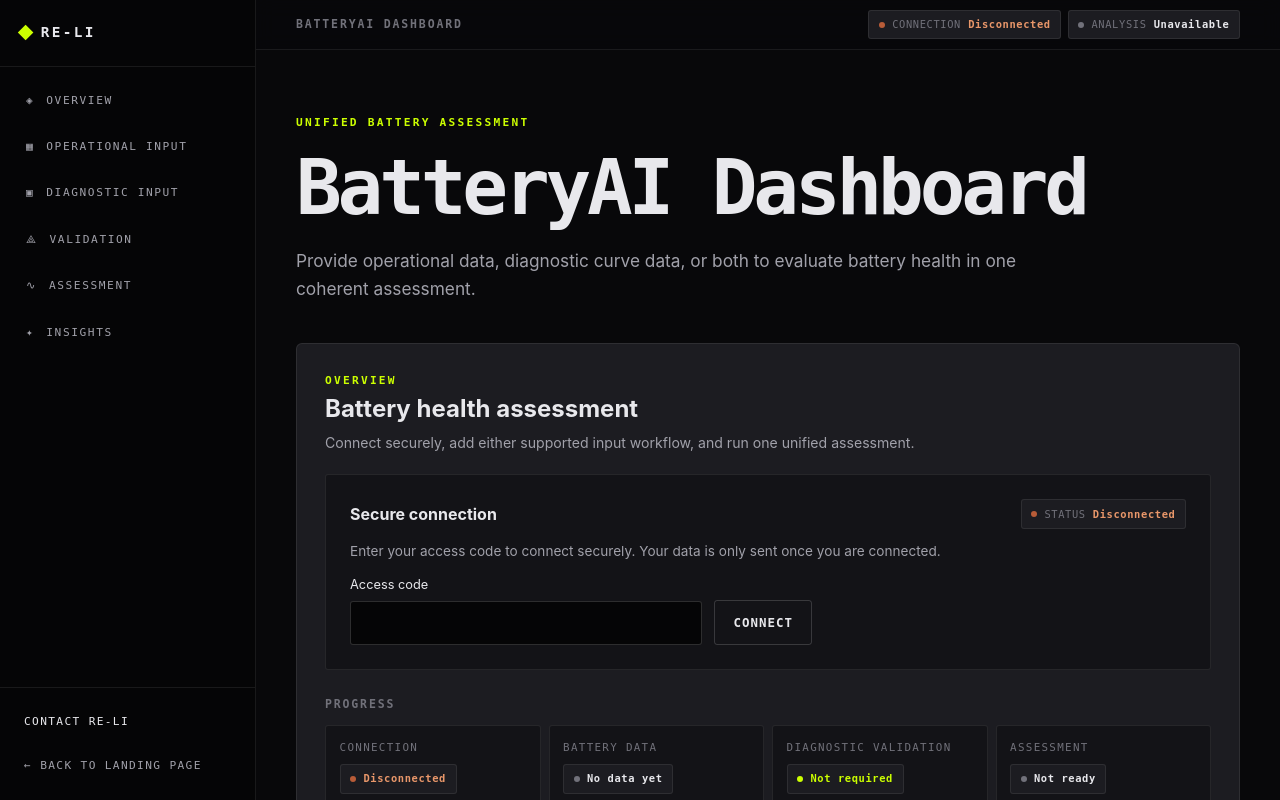
dashboard insights › renders a safe error rather than incomplete guidance after defensive filtering
expect the heading "Battery health assessment" is shown: met, box [325,394,638,423]
Type "access-code-value" into the password field labelled "Access code" at (526,623), box [350,601,702,645]
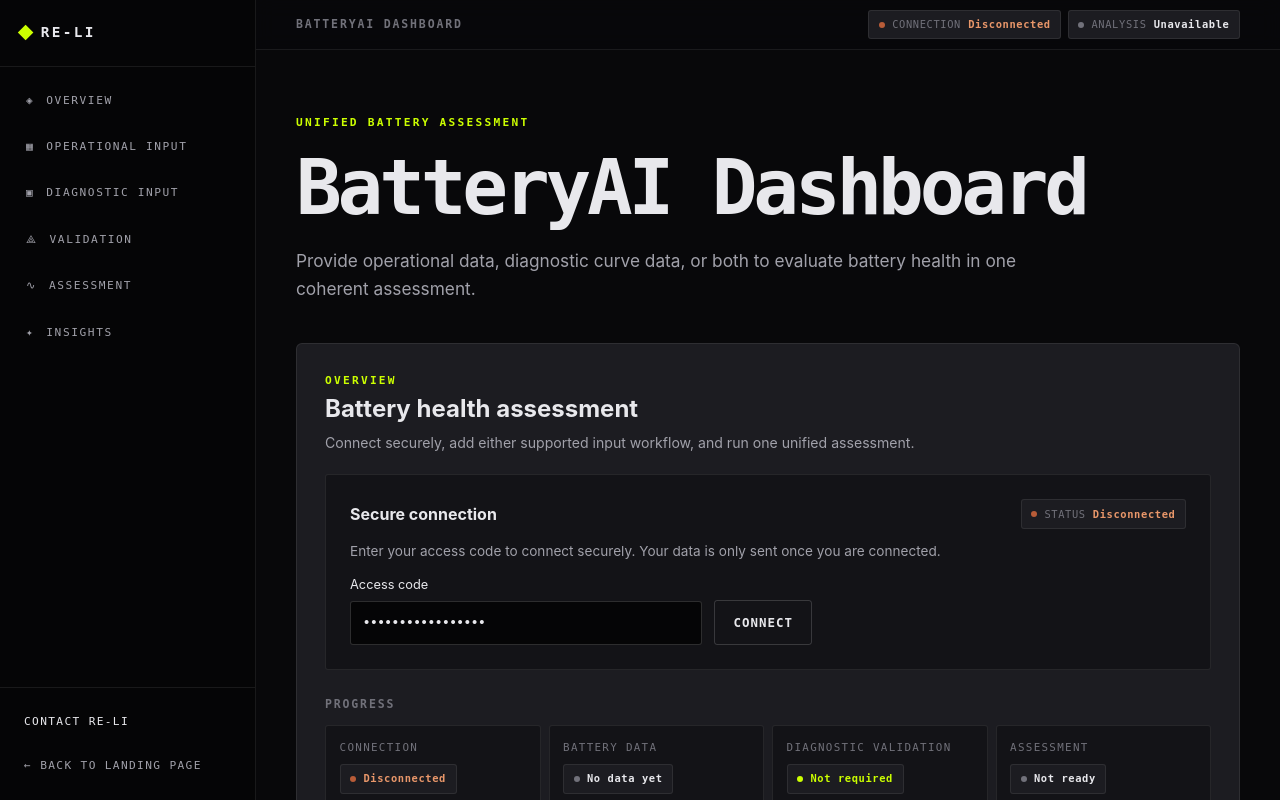
Click the button "Connect" at (763,622), box [714,600,812,645]
(page scrolled)
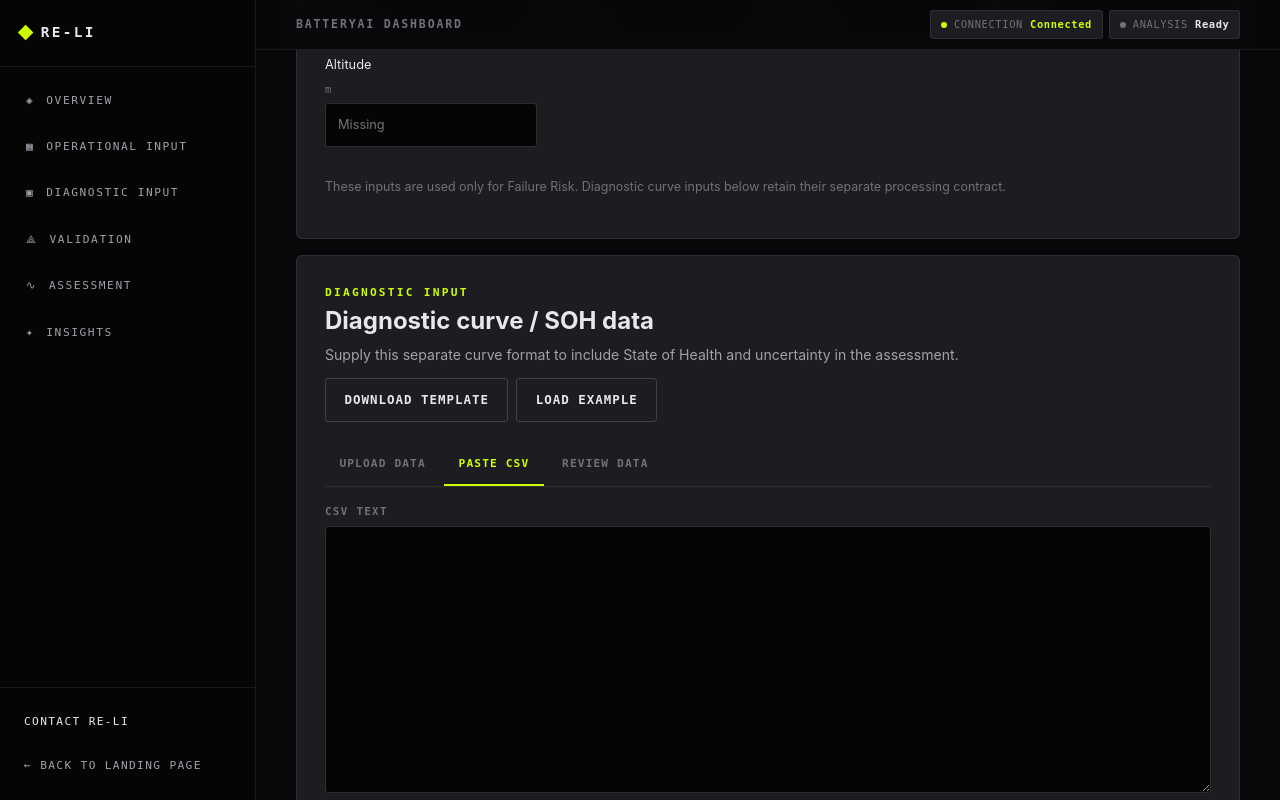
expect the text "Connected" is shown: met, box [1030,16,1092,33]
Click the button "Load example" at (587,400), box [516,378,657,422]
(page scrolled)
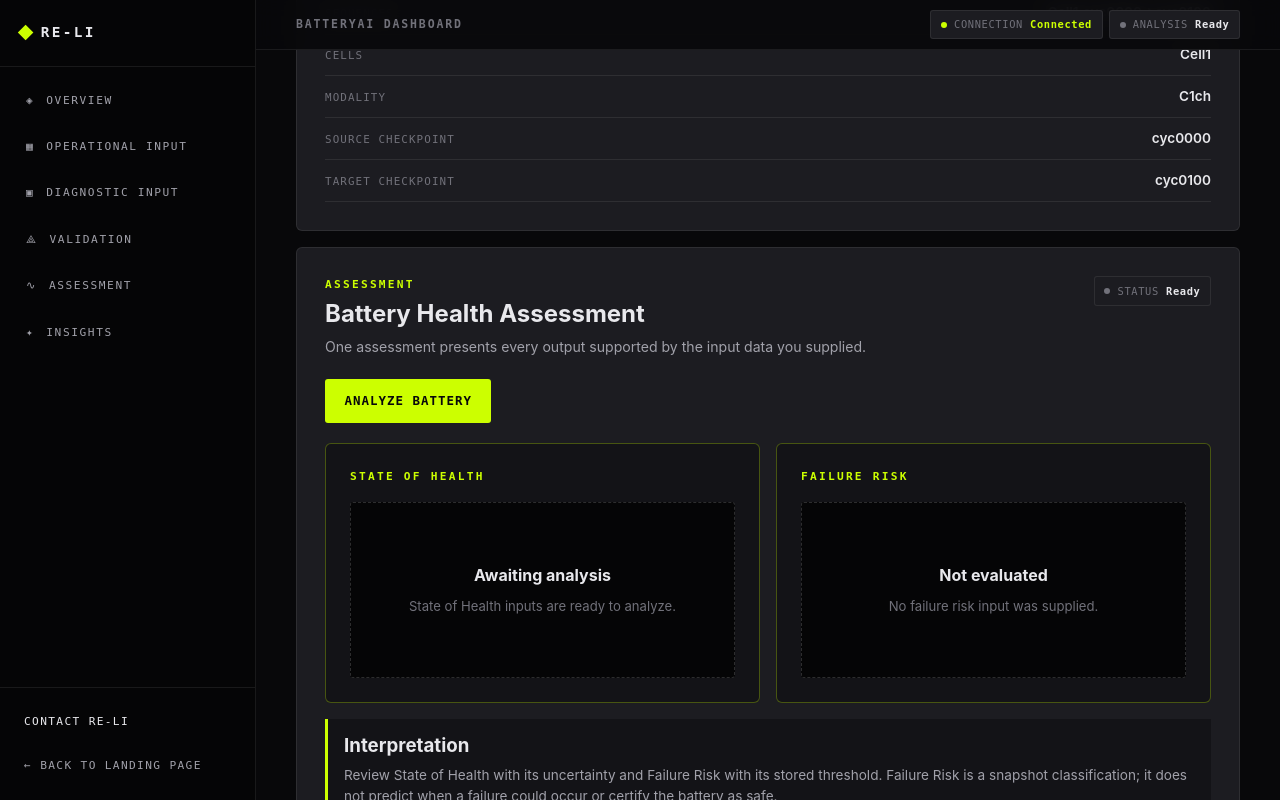
Click the button "Analyze battery" at (408,401), box [325,379,491,423]
(page scrolled)
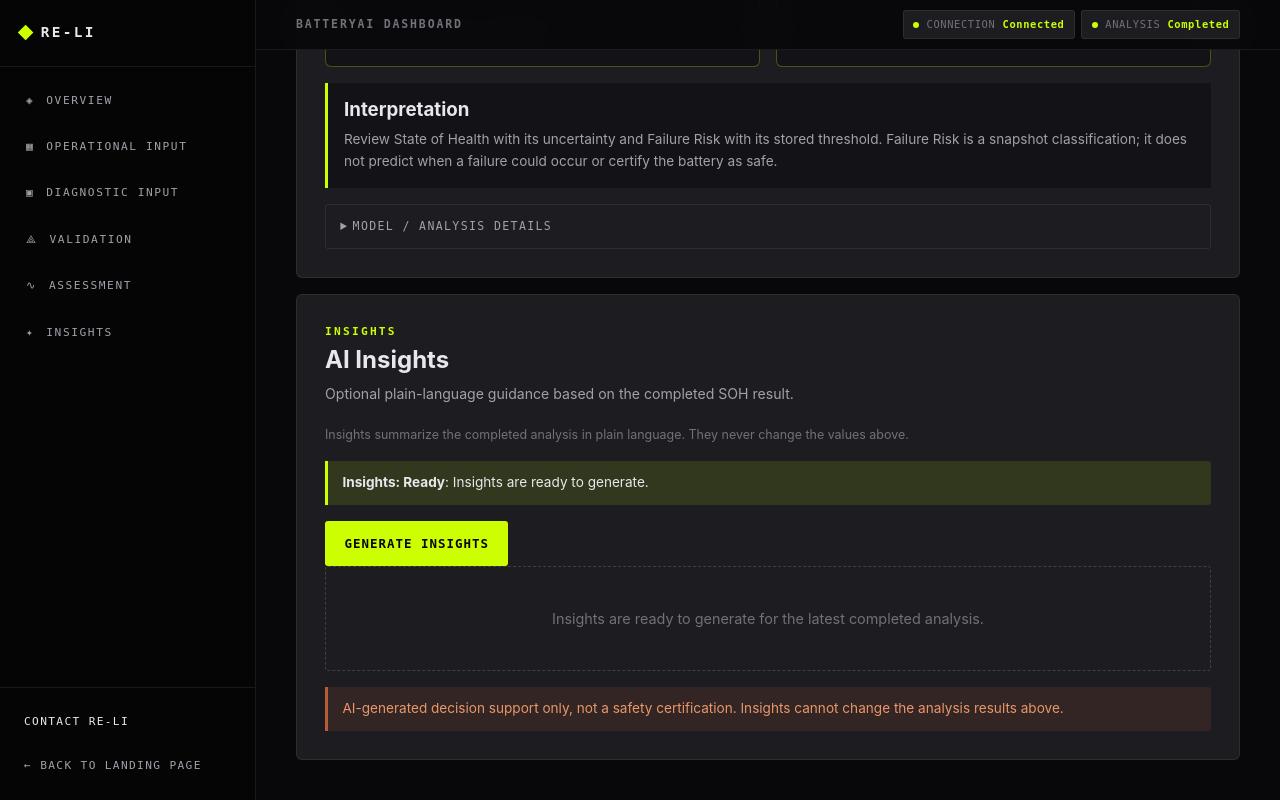
Click the button "Generate insights" at (417,543), box [325,521,508,566]
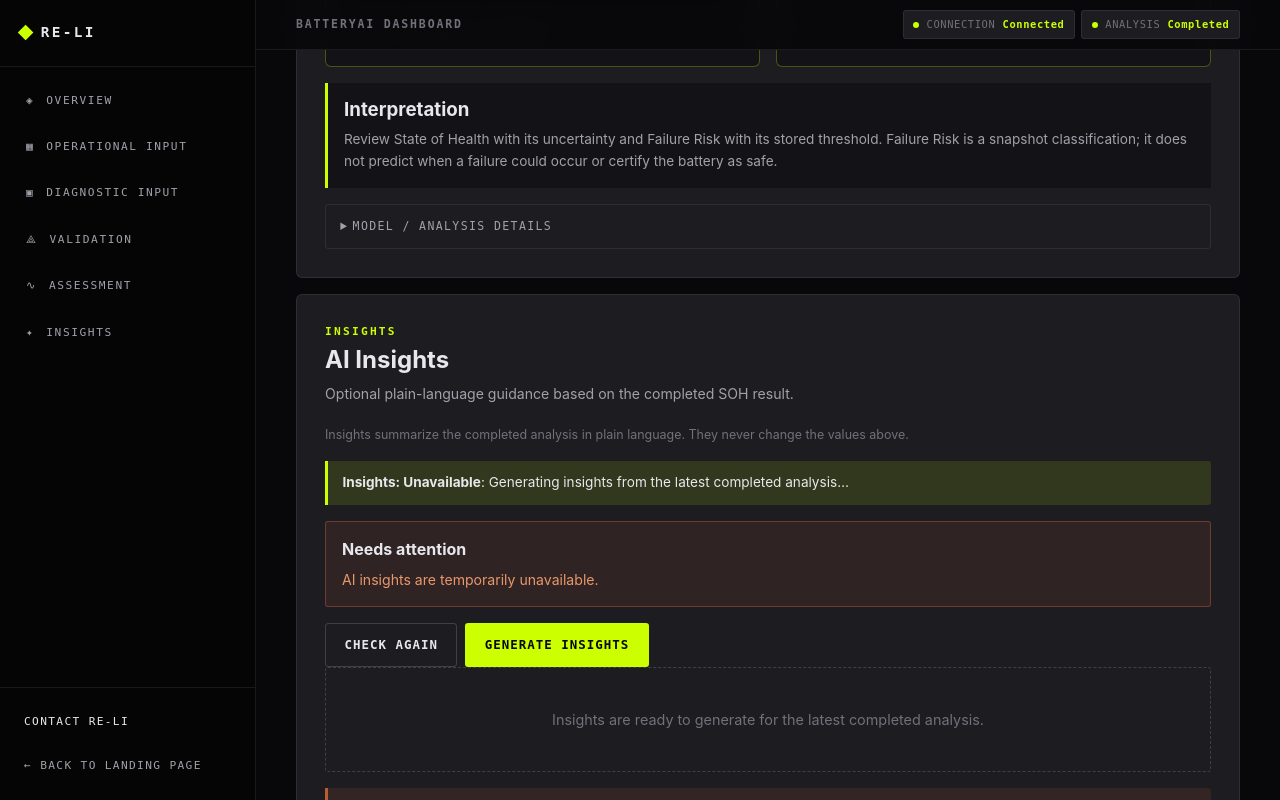
expect the message "Needs attention AI insights are temporarily unavailable." is shown: met, box [325,521,1211,607]
